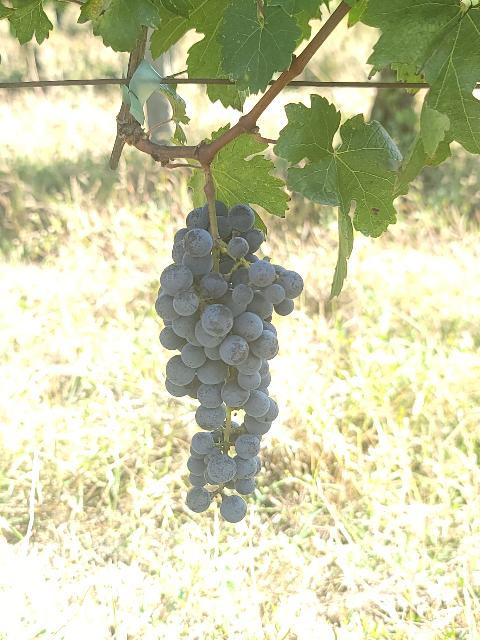grapes: (155, 201, 304, 522)
